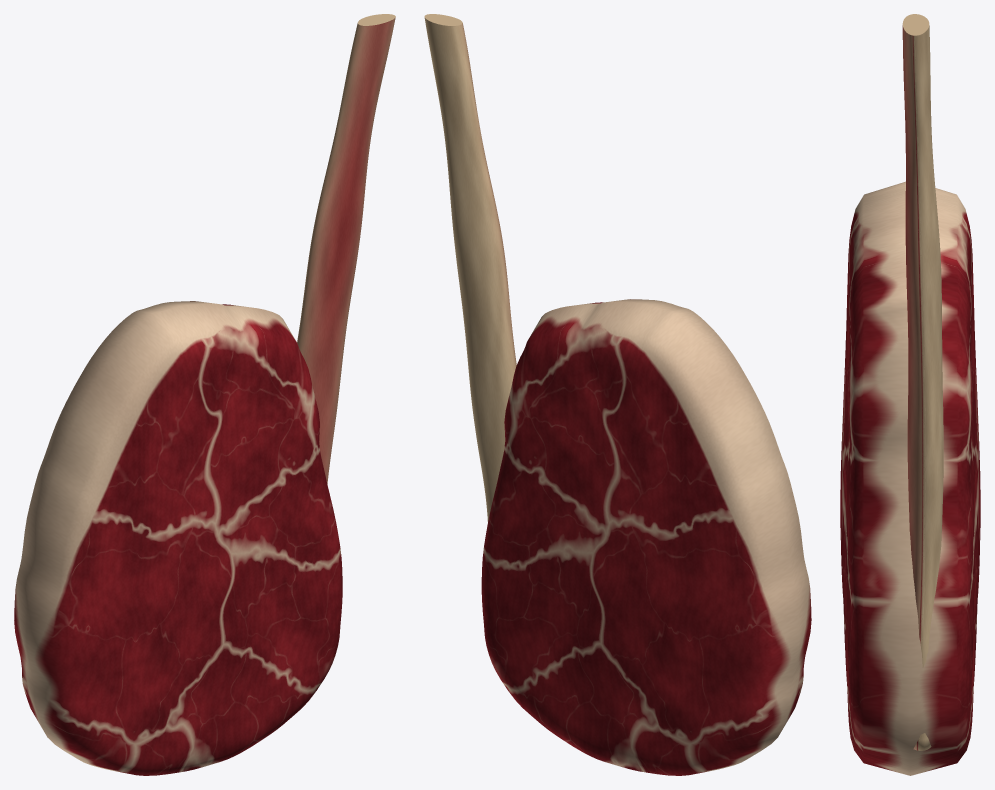
Rendered from Rib_Steak_Static.fbx.
3 renders of one model, left to right at view 1: azimuth 30°, elevation 25°; view 2: azimuth 150°, elevation 25°; view 3: azimuth 270°, elevation 25°, orthographic. The views are drawn at different scales.
Visible parts, largest first — view 1: Rib_Steak, Rib_Bone; view 2: Rib_Steak, Rib_Bone; view 3: Rib_Steak, Rib_Bone.
Part boxes in pixels (left/top/right/bottom): Rib_Steak: left=14, top=301, right=342, bottom=775; Rib_Bone: left=297, top=14, right=395, bottom=484; Rib_Steak: left=481, top=299, right=811, bottom=775; Rib_Bone: left=424, top=14, right=516, bottom=521; Rib_Steak: left=840, top=181, right=980, bottom=775; Rib_Bone: left=902, top=14, right=943, bottom=750.
Size of the model in its own units: 53.37 by 95.5 by 14.35.
3 materials, 2 textured.
